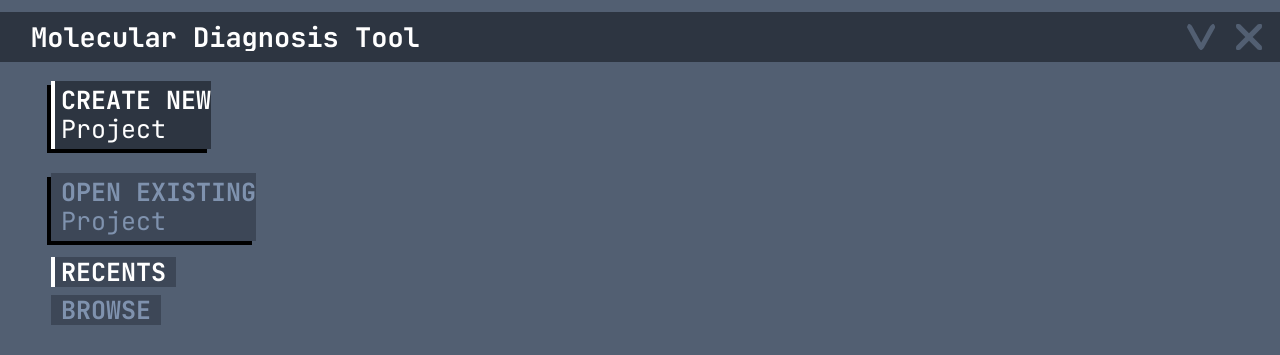
Test case: the project page › renames the project through the backend, not in local state
Click the button "Open Existing Project" at (154, 207), box [51,173,256,241]
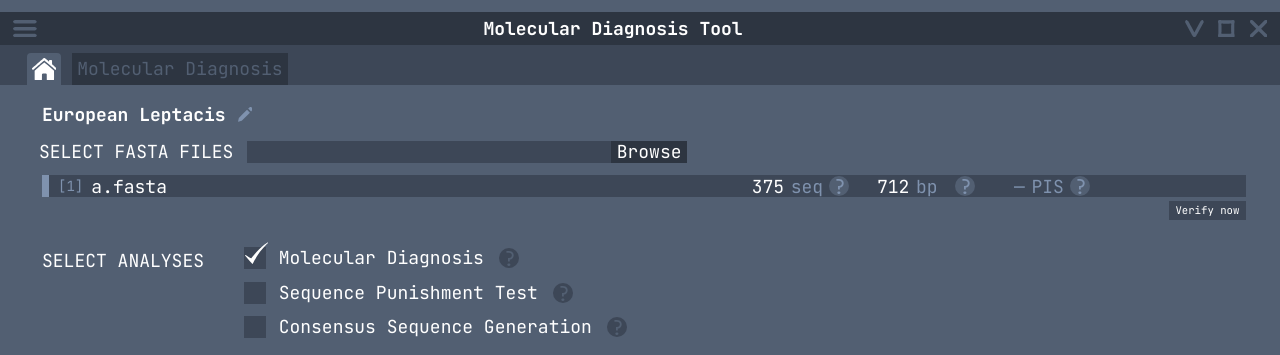
Check: the heading "European Leptacis" is shown, box [42,105,226,125]
Click the button named "rename this project" at (245, 115), box [235,105,255,125]
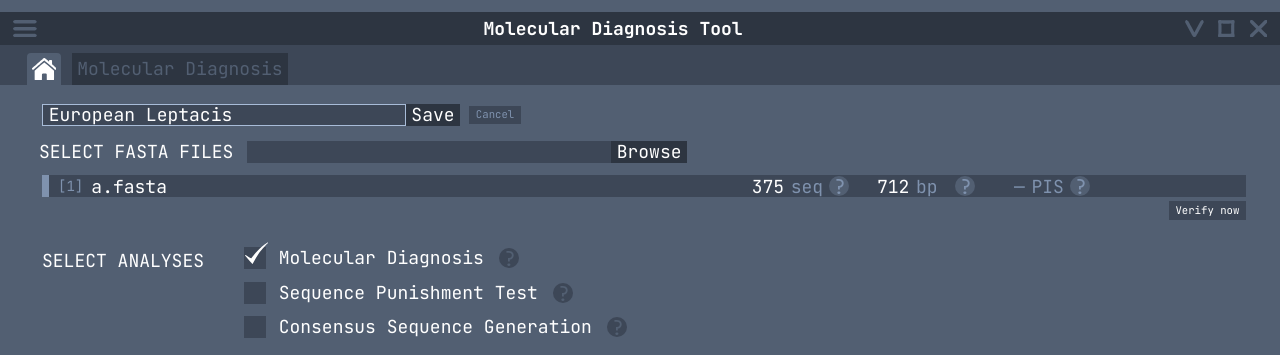
Replace the text in the field named "Project title" with "Renamed" at (224, 115), box [42,104,406,126]
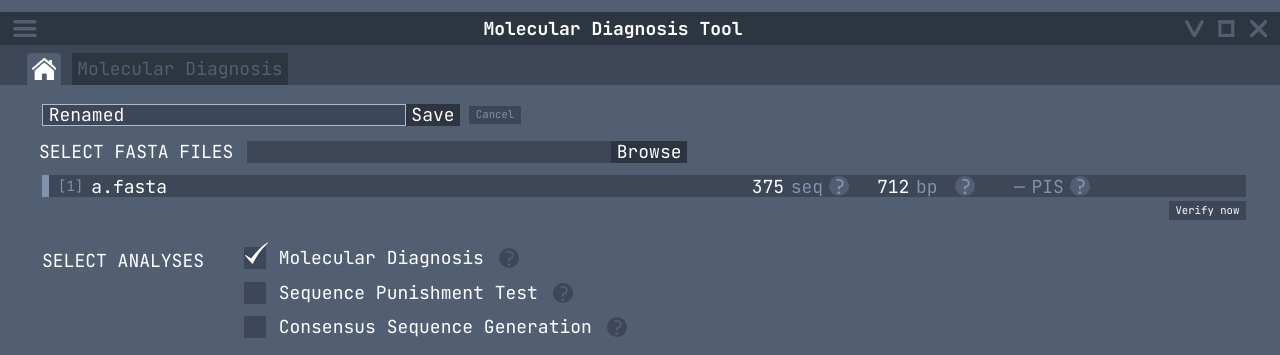
Click the button with aria-label "Save project title" at (433, 115), box [406,104,460,126]
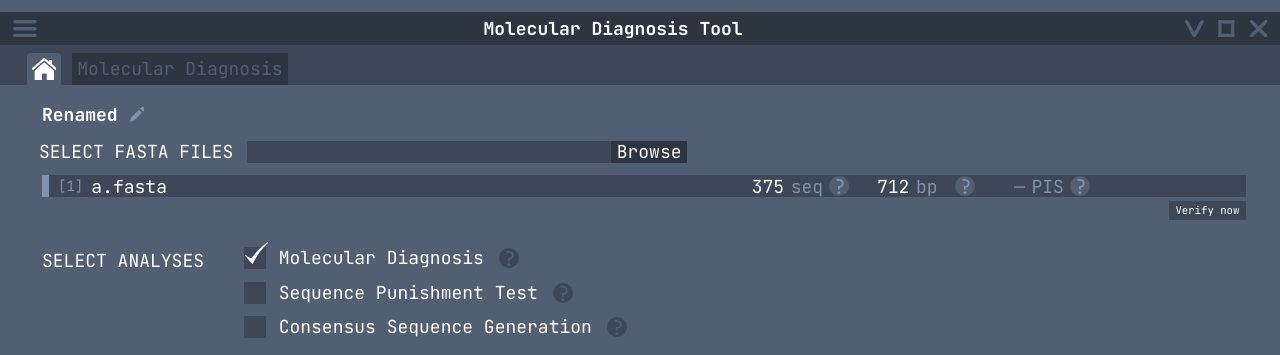
Check: the heading "Renamed" is shown, box [42,105,118,125]
